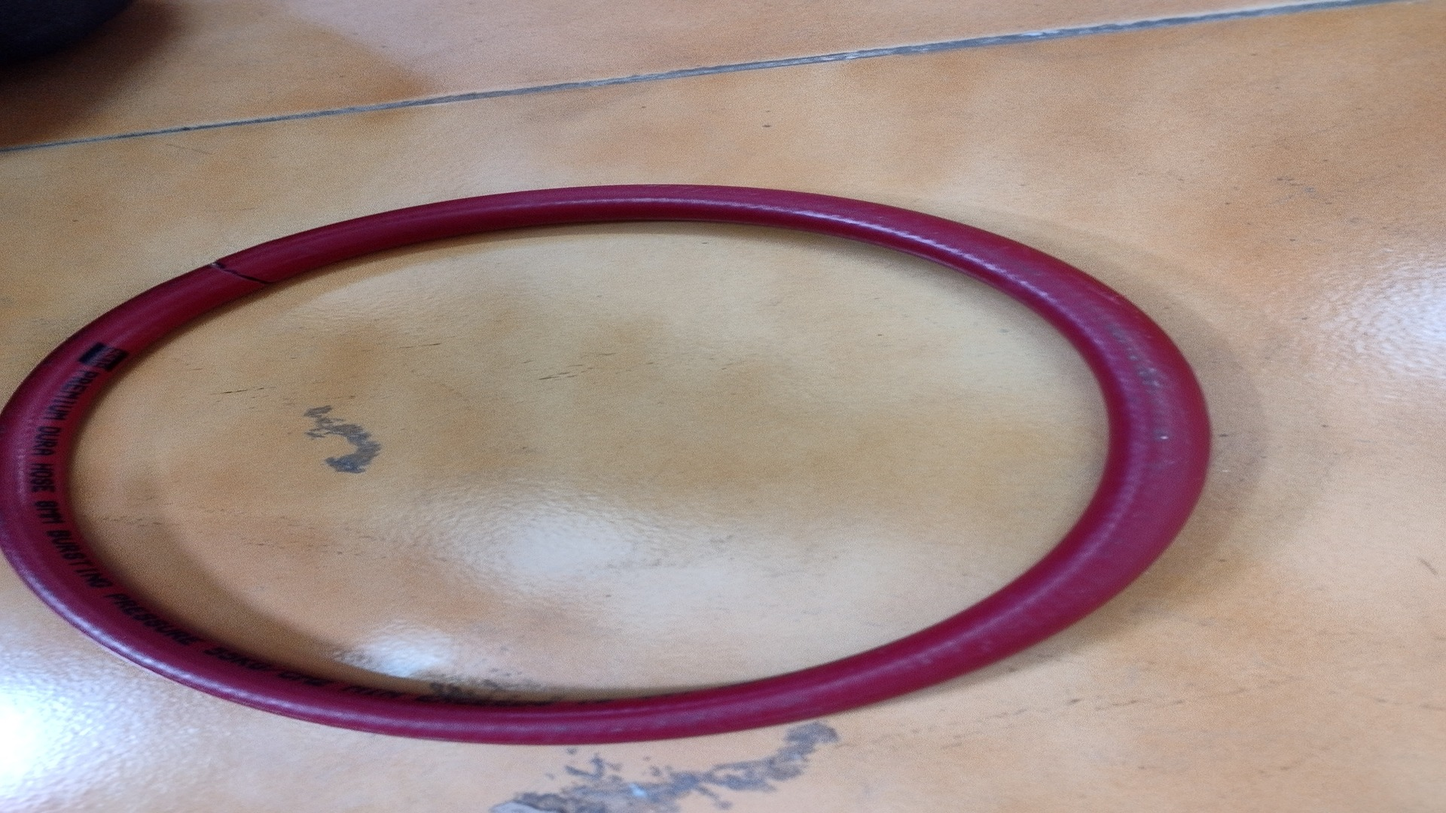Red ring: (5, 182, 1214, 741)
